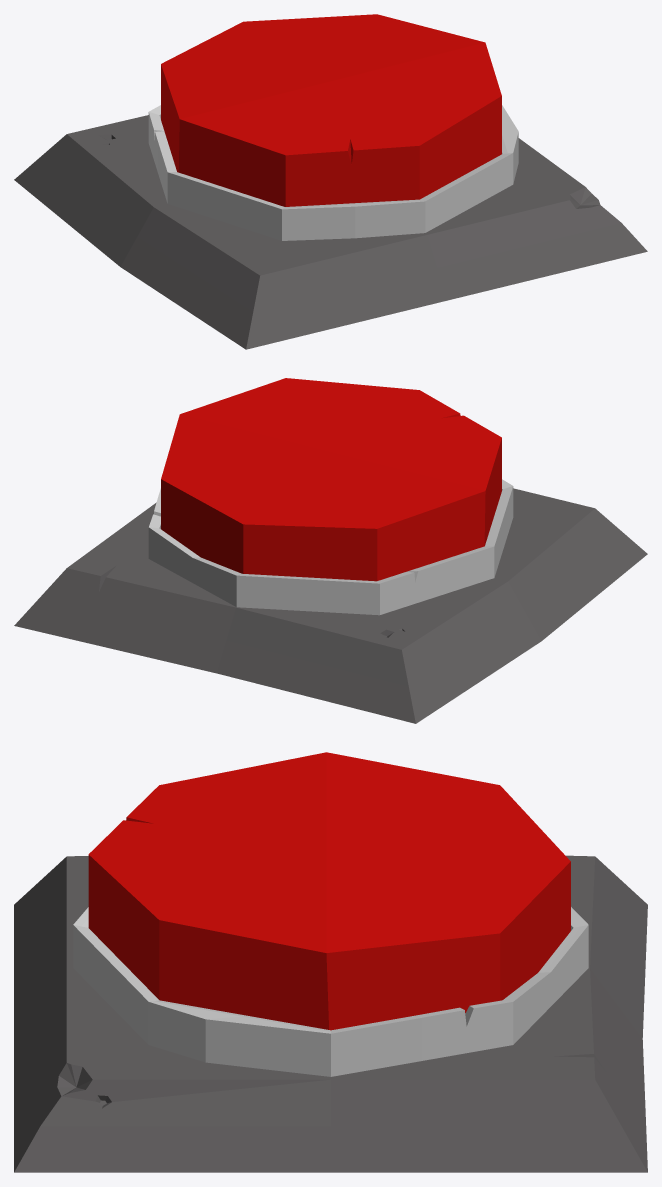
The model's file is button.fbx.
3 views of the same model, one above another, from view 1: azimuth 30°, elevation 25°; view 2: azimuth 150°, elevation 25°; view 3: azimuth 270°, elevation 25° (orthographic). The views are drawn at different scales.
Visible parts, largest first — view 1: Cube, Cylinder; view 2: Cube, Cylinder; view 3: Cube, Cylinder.
Boxes of the visible parts, x1,y1,x2,y2 form: Cube: [14, 105, 647, 349]; Cylinder: [161, 14, 501, 206]; Cube: [14, 479, 647, 723]; Cylinder: [161, 378, 501, 581]; Cube: [14, 855, 647, 1172]; Cylinder: [88, 752, 570, 1030].
Bounding box in the file's own units: 169 × 54.67 × 165.
